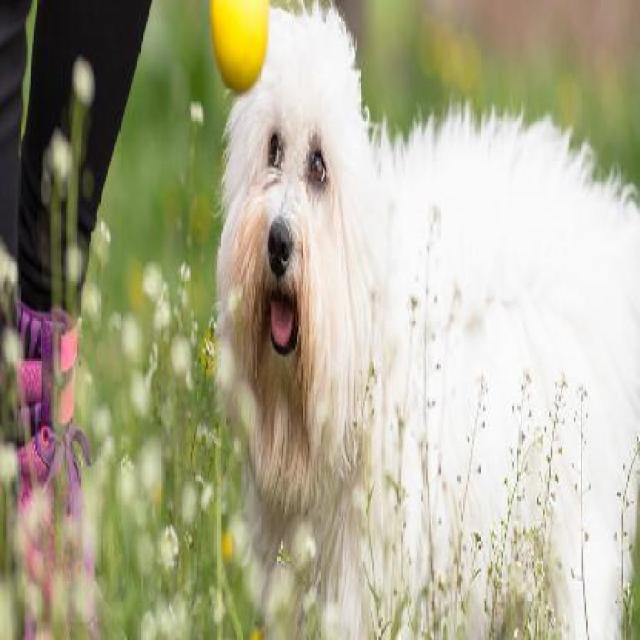Dog: (215, 0, 638, 638)
